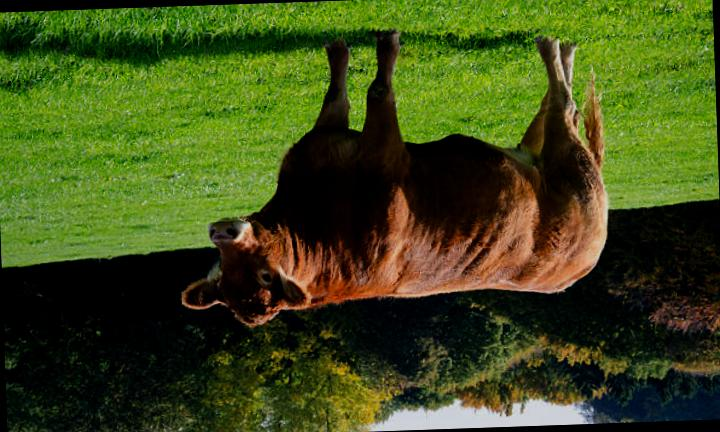Charolais: (183, 34, 607, 326)
